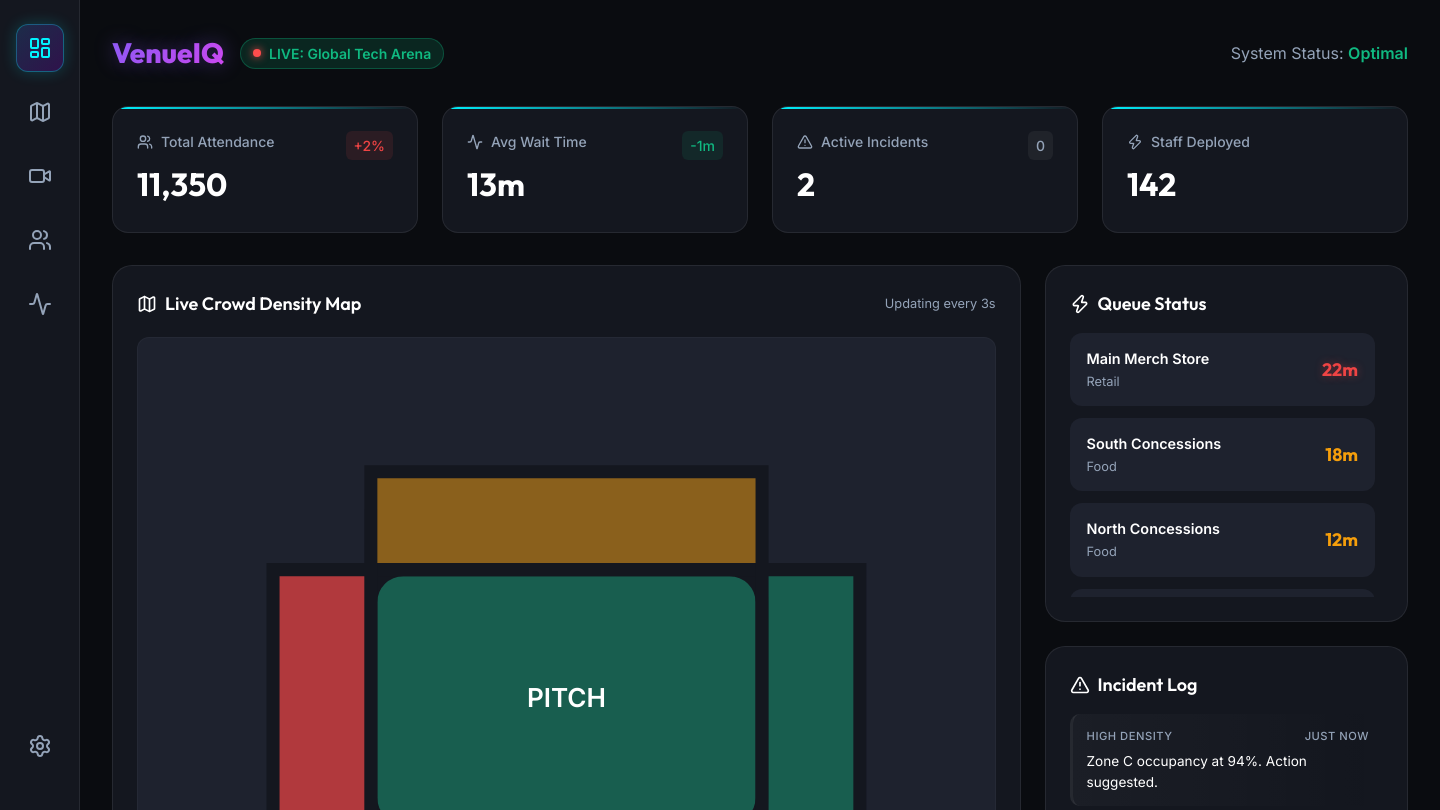
Dashboard component › switches tabs correctly
This screenshot has width=1440, height=810.
Click map tab
Click the button titled "Map Analytics" at (40, 112), box top-left (16, 88), bottom-right (64, 136)
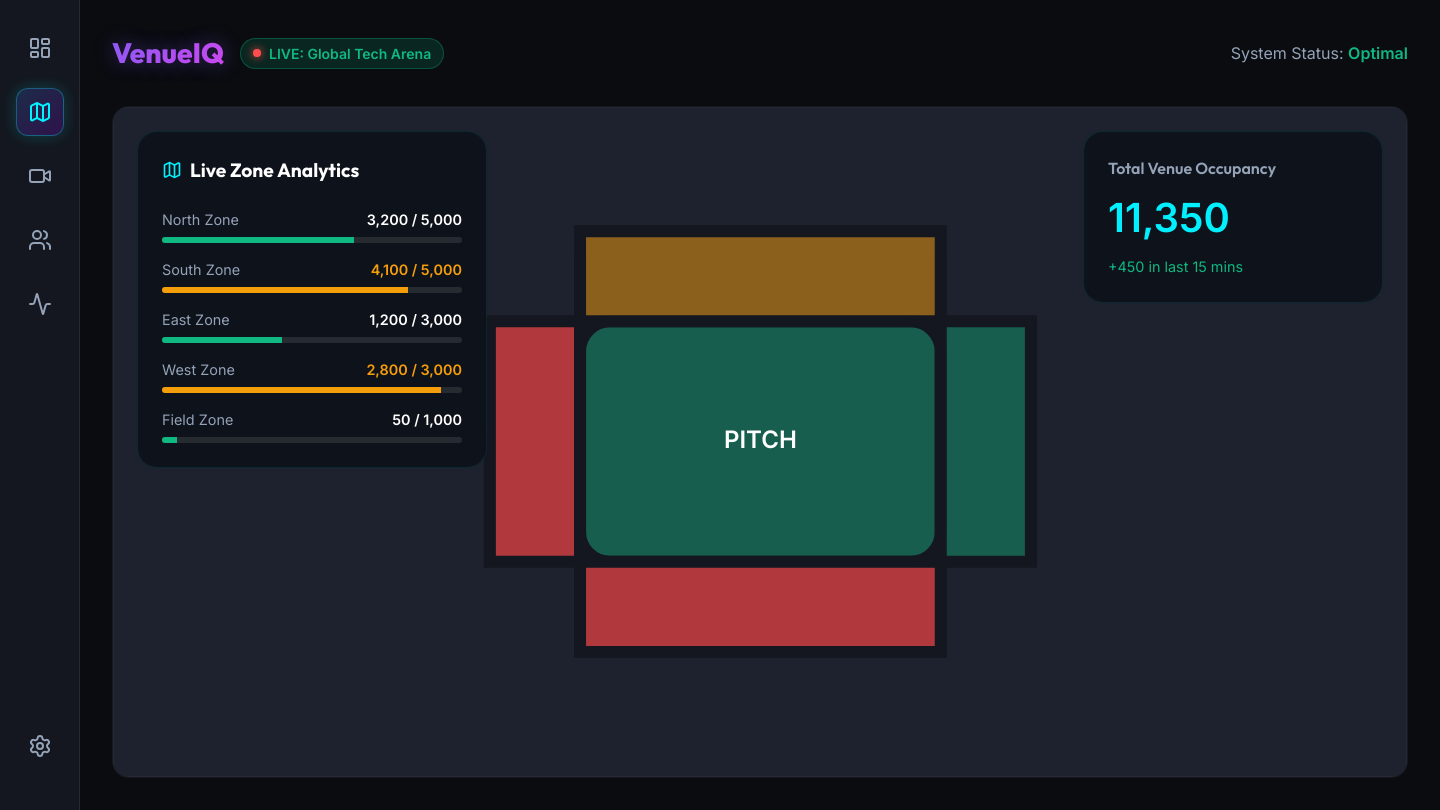
Expected: the heading "Live Zone Analytics" is shown, top-left (162, 158), bottom-right (359, 182)
